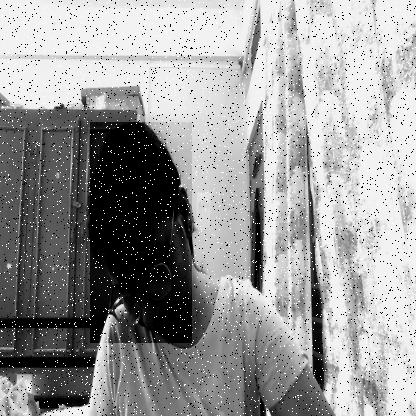Distracted: (90, 122, 192, 343)
